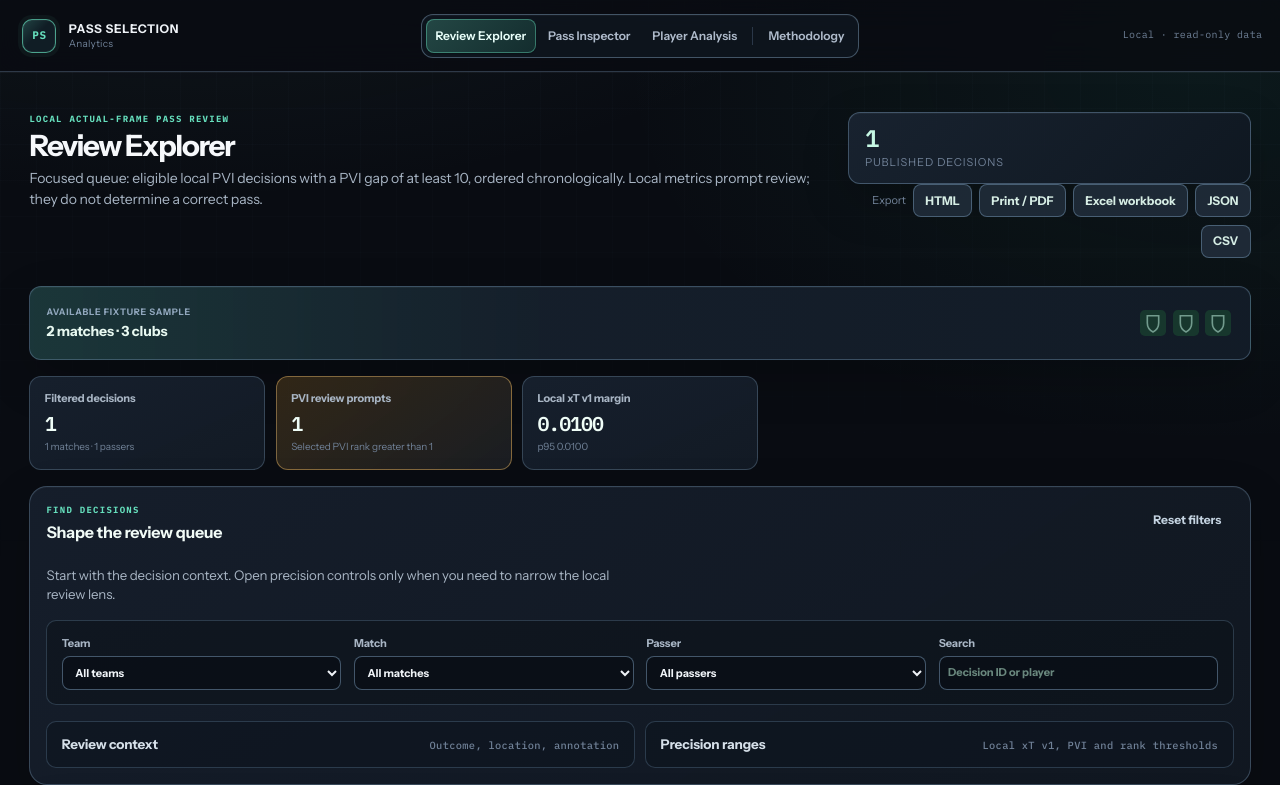
App URL-backed review filters › uses metadata bounds for the rank slider and keeps annotation in Review context
Expected: the heading "Review Explorer" is shown, [29, 126, 234, 162]
Step 1. Click the text "Precision ranges" → (713, 745), box [661, 735, 765, 754]
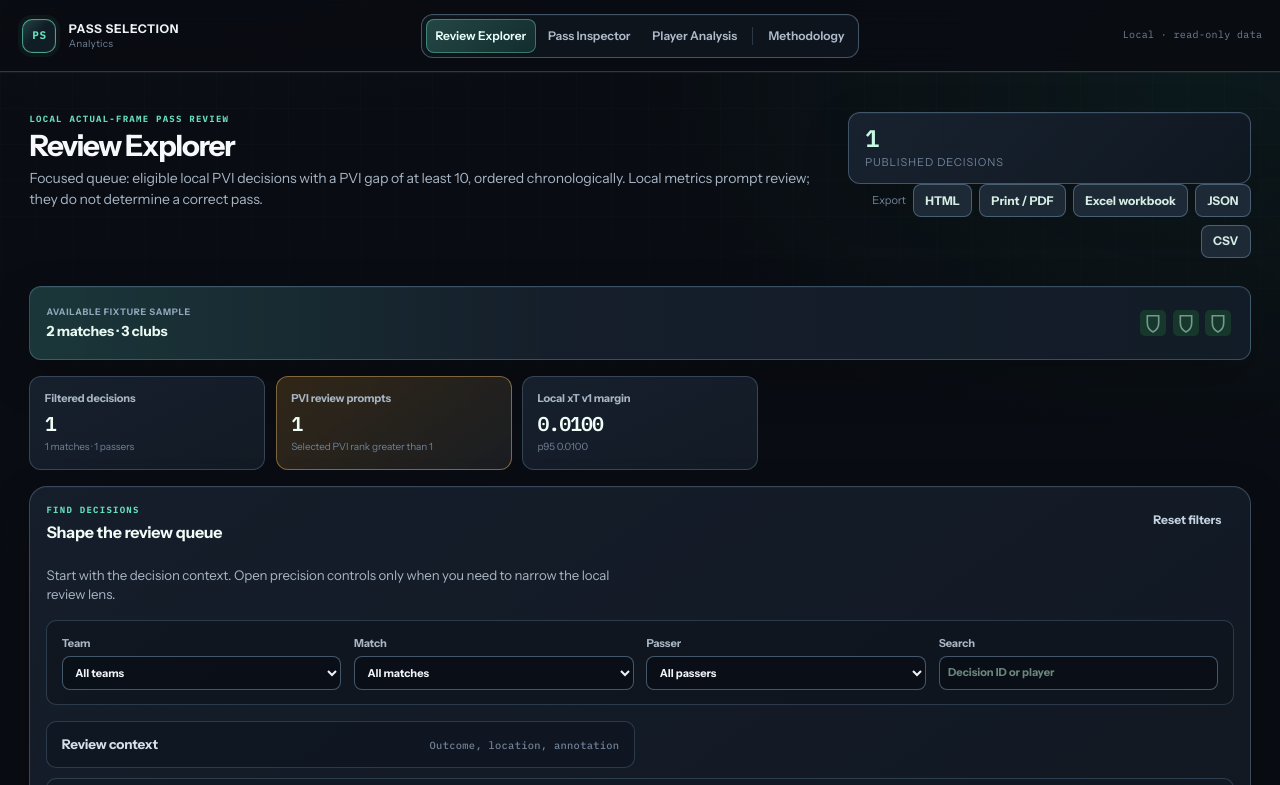
Step 2. Click the text "Review context" → (110, 745), box [62, 735, 158, 754]
(page scrolled)
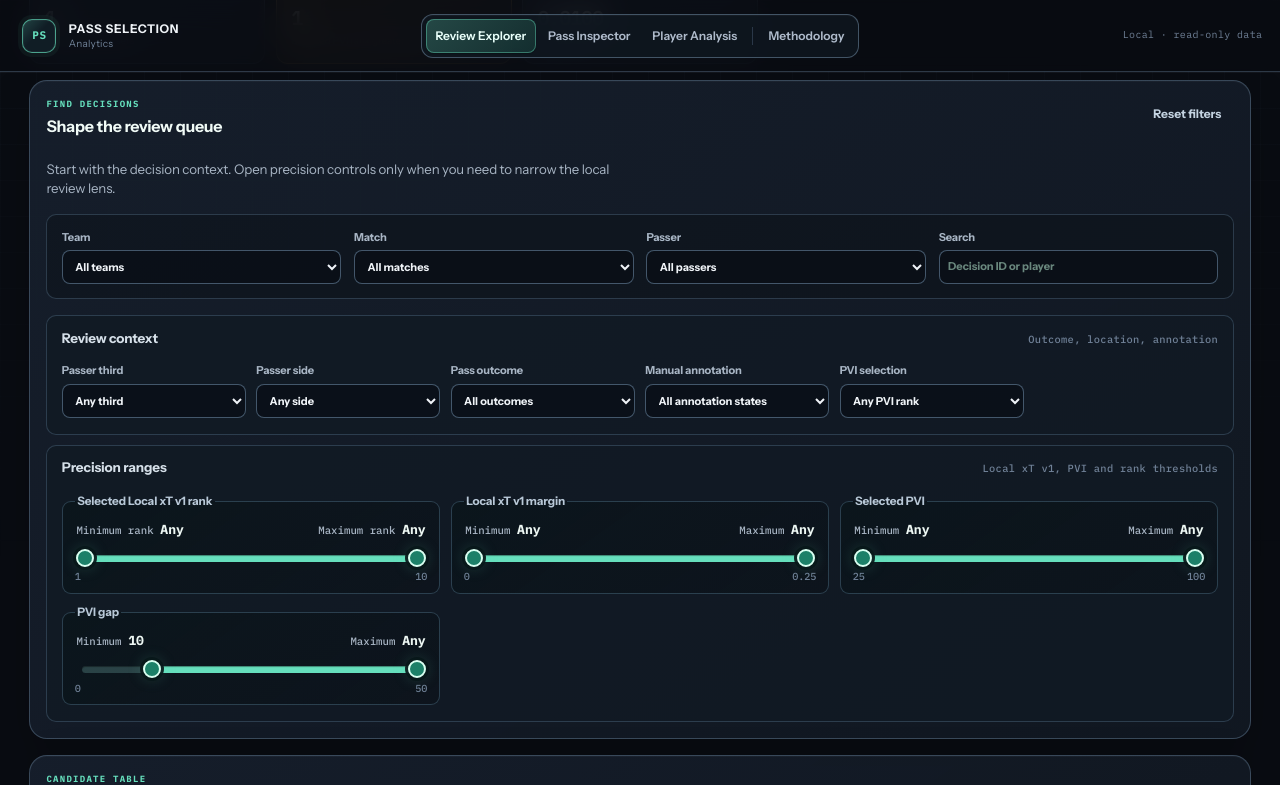
Expected: the dropdown labelled "Manual annotation" is shown, [645, 384, 829, 418]
